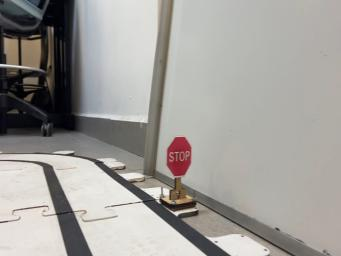stop: (161, 136, 196, 210), (161, 136, 196, 210), (161, 136, 196, 210), (161, 136, 196, 210), (161, 136, 196, 210), (161, 136, 196, 210)
street: (0, 154, 227, 255), (0, 154, 227, 255), (0, 154, 227, 255), (0, 154, 227, 255), (0, 154, 227, 255), (0, 154, 227, 255)
